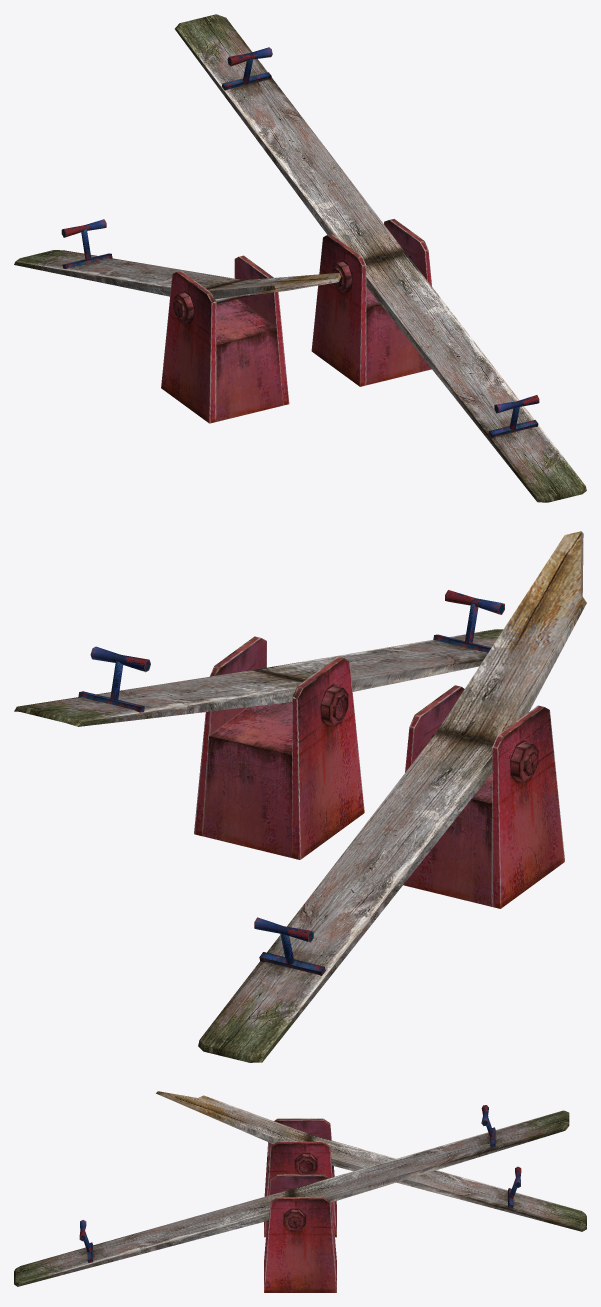
File: Kacheli.FBX
3 views of the same model, one above another, from view 1: azimuth 30°, elevation 25°; view 2: azimuth 150°, elevation 25°; view 3: azimuth 270°, elevation 25° (orthographic). The views are drawn at different scales.
Parts seen in each view (by area): view 1: kacheli001, kacheli; view 2: kacheli, kacheli001; view 3: kacheli001, kacheli.
Part boxes in pixels (box(x1,y1,x2,y2)): kacheli001: box(175, 14, 586, 502); kacheli: box(14, 219, 340, 423); kacheli: box(198, 531, 586, 1062); kacheli001: box(14, 590, 504, 859); kacheli001: box(14, 1105, 569, 1292); kacheli: box(156, 1091, 586, 1237).
Size of the model in its own units: 1.21 by 1.06 by 3.36.
